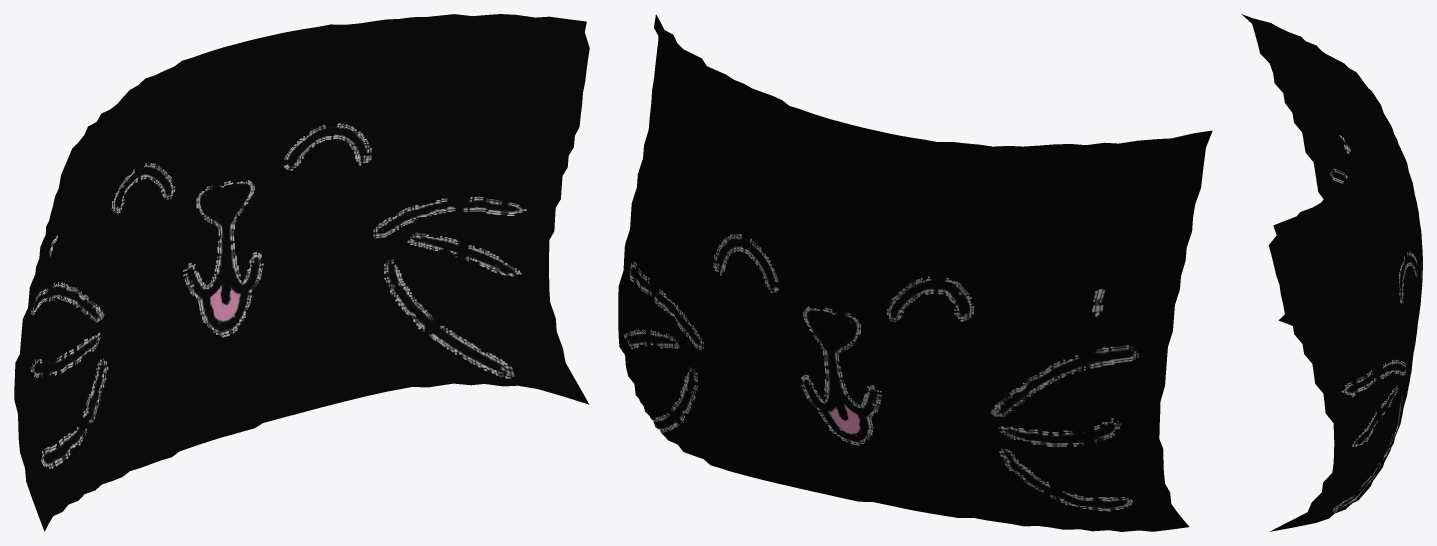
Rendered from cara_4.glb.
3 views of the same model, side by side, from view 1: azimuth 30°, elevation 25°; view 2: azimuth 150°, elevation 25°; view 3: azimuth 270°, elevation 25° (orthographic). The views are drawn at different scales.
Bounding box in the file's own units: 0.8 × 0.5406 × 0.2904.
Materials: 1 (1 with a texture image).
